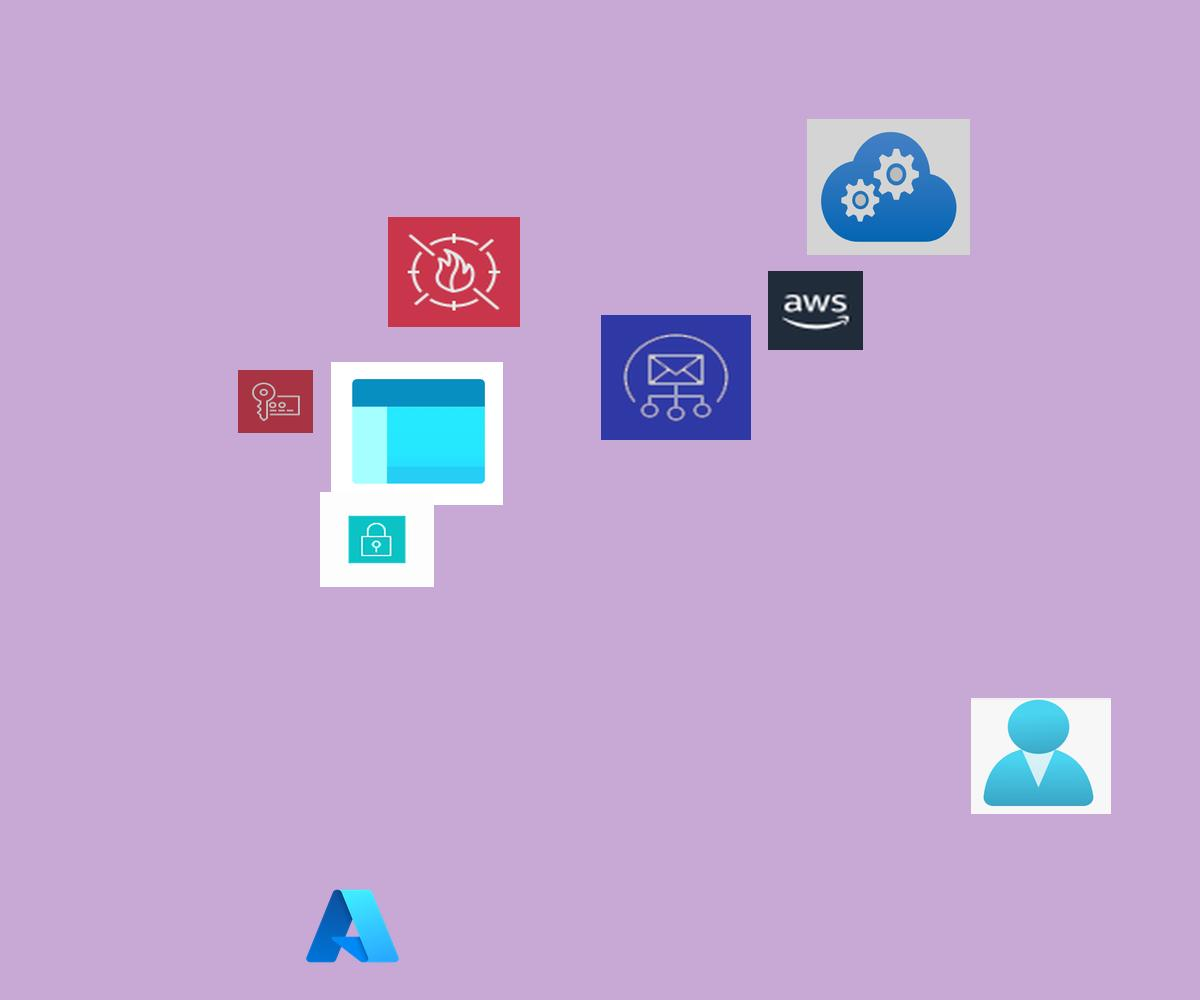AWS-Cloud-logo: (768, 271, 863, 350)
AWS-Key-Management-Service: (238, 370, 313, 433)
AWS-Private-subnet: (320, 492, 434, 587)
AWS-Simple-Email-Service: (601, 315, 751, 440)
AWS-WAF: (388, 217, 520, 327)
Azure_cloud_services: (807, 119, 970, 255)
Azure_management-portal: (331, 362, 503, 505)
Azure_services: (302, 884, 403, 968)
Azure_users: (971, 698, 1111, 814)
